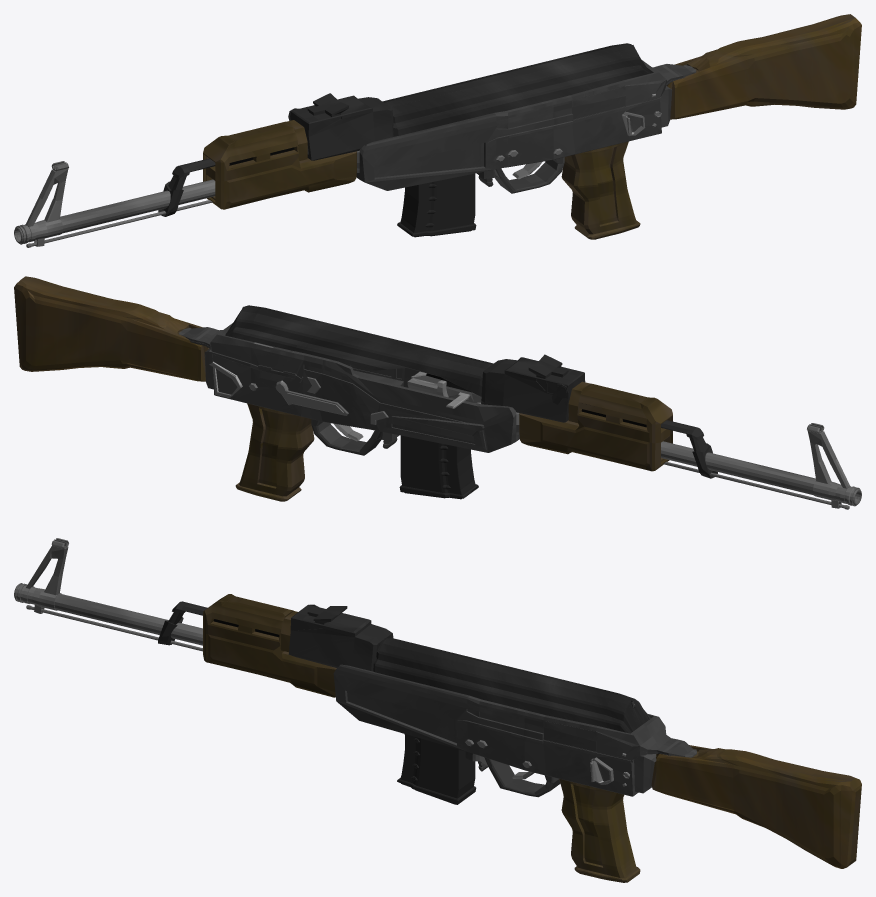
3 views of the same model, one above another, from view 1: azimuth 30°, elevation 25°; view 2: azimuth 150°, elevation 25°; view 3: azimuth 330°, elevation 25° (orthographic).
Parts seen in each view (by area): view 1: Receiver, ButtOfTheWeapon, ReceiverCover, Forearm, GasTube, Handle, TheBarrel, LowCharge(AK), Ramrod; view 2: Receiver, ButtOfTheWeapon, Forearm, ReceiverCover, GasTube, Handle, TheBarrel, LowCharge(AK), Valve, Ramrod; view 3: Receiver, ButtOfTheWeapon, ReceiverCover, Forearm, Handle, GasTube, TheBarrel, LowCharge(AK).
Part boxes in pixels (x1,y1,x2,y2): Receiver: (356, 60, 696, 193); ButtOfTheWeapon: (667, 14, 861, 119); ReceiverCover: (382, 43, 650, 136); Forearm: (203, 120, 356, 209); GasTube: (158, 93, 393, 216); Handle: (561, 141, 640, 239); TheBarrel: (14, 150, 359, 246); LowCharge(AK): (397, 173, 476, 237); Ramrod: (26, 200, 212, 247); Receiver: (178, 323, 519, 455); ButtOfTheWeapon: (14, 276, 209, 381); Forearm: (519, 381, 672, 471); ReceiverCover: (225, 305, 493, 396); GasTube: (481, 354, 717, 478); Handle: (235, 403, 314, 501); TheBarrel: (516, 412, 861, 508); LowCharge(AK): (399, 435, 478, 499); Valve: (407, 371, 481, 408); Ramrod: (663, 461, 849, 509); Receiver: (333, 664, 696, 797); ButtOfTheWeapon: (651, 745, 861, 868); ReceiverCover: (373, 637, 650, 733); Forearm: (203, 594, 336, 697); Handle: (559, 779, 640, 882); GasTube: (158, 601, 393, 671); TheBarrel: (14, 538, 202, 645); LowCharge(AK): (397, 734, 476, 804).
Size of the model in its own units: 238 by 54.14 by 21.01.
